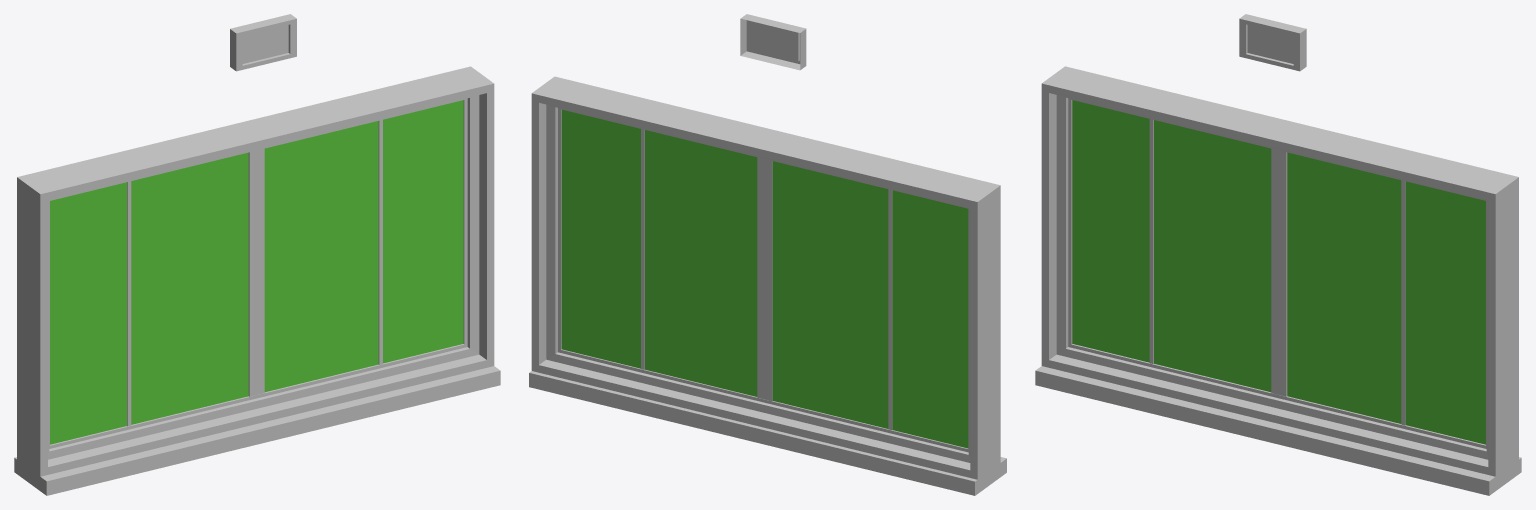
The model's file is Wall_Window 1.fbx.
The picture shows the model from 3 angles, left to right: view 1: azimuth 30°, elevation 25°; view 2: azimuth 150°, elevation 25°; view 3: azimuth 330°, elevation 25°; orthographic projection.
Visible parts, largest first — view 1: Window; view 2: Window; view 3: Window.
Part boxes in pixels (x1=…): Window: x1=14, y1=14, x2=500, y2=495; Window: x1=529, y1=14, x2=1006, y2=495; Window: x1=1035, y1=14, x2=1521, y2=495.
Size of the model in its own units: 2 by 1.72 by 0.2472.
